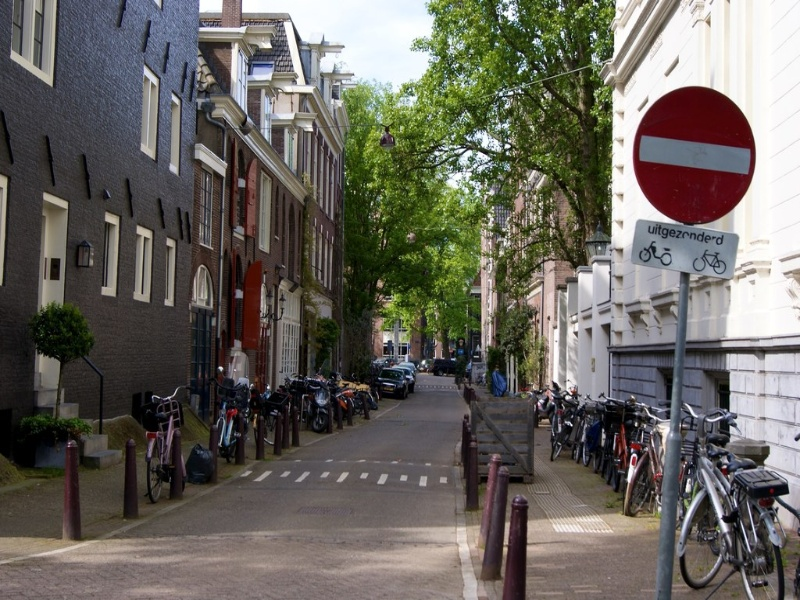no_entry: (638, 91, 760, 220)
parking: (635, 218, 756, 286)
